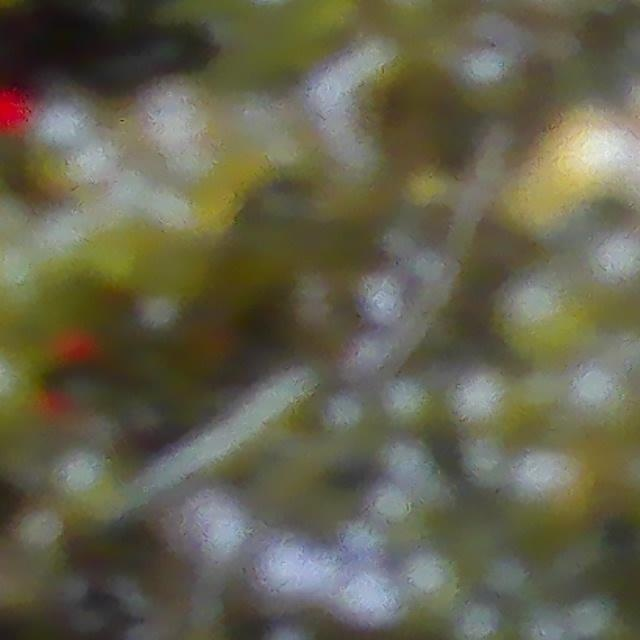SeaGrape: (497, 272, 593, 363), (380, 376, 438, 431), (513, 448, 569, 500), (591, 232, 640, 287), (403, 550, 455, 600)
